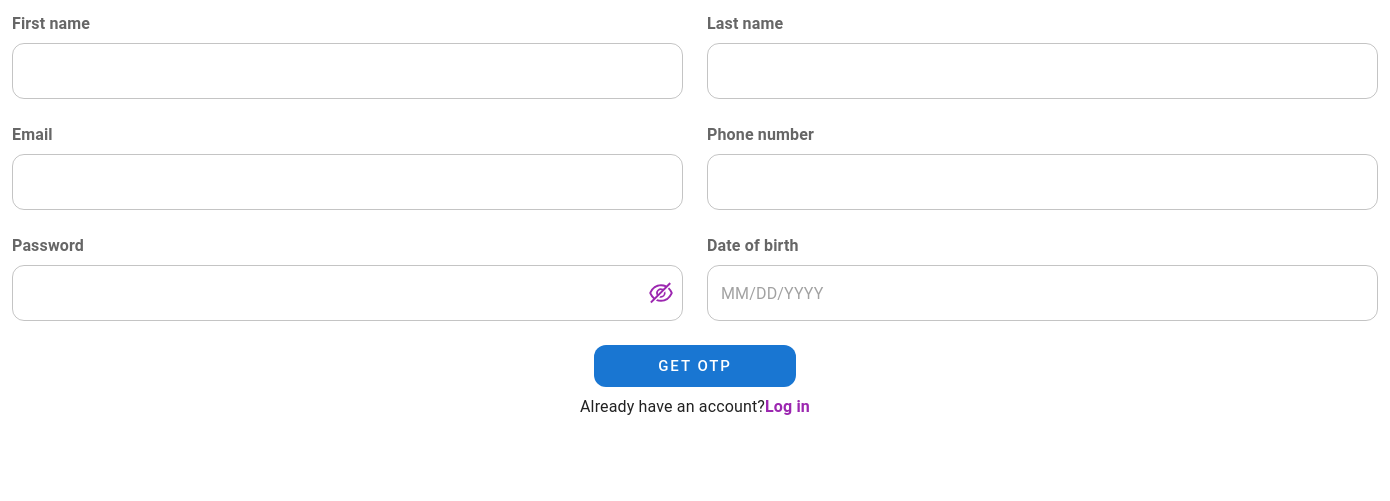
Test case: AuthRegister (Registration) - Unit Tests › Validation › shows required field errors when submitting empty form
Click the button "Get OTP" at (695, 366), box [594,345,796,387]
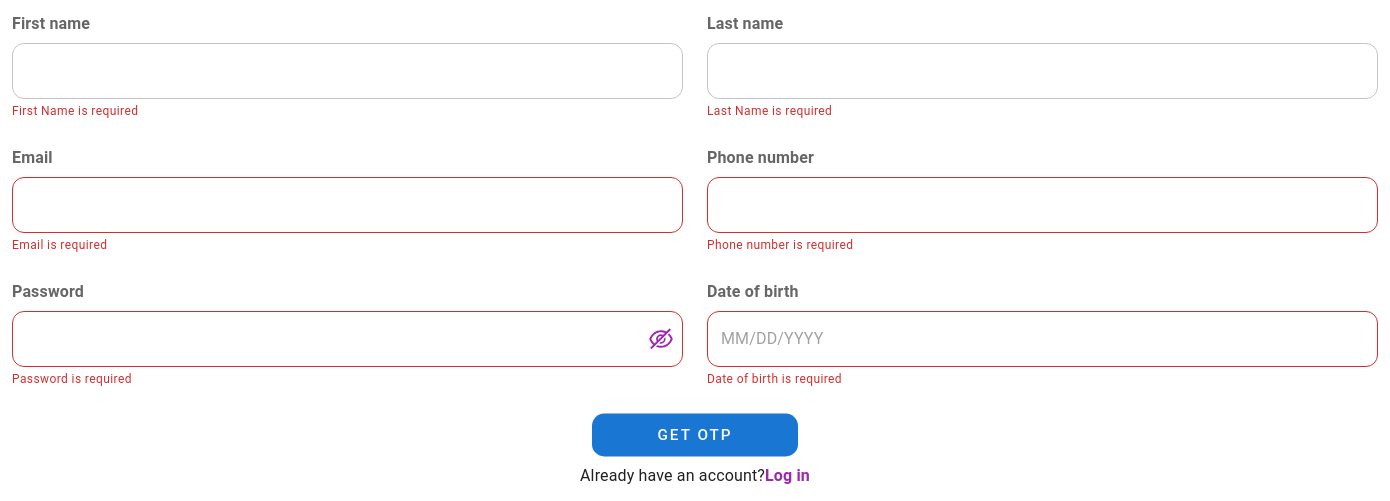
Now the text "First Name is required" is shown, box [12,104,138,118]
Now the text "Last Name is required" is shown, box [707,104,832,118]
Now the text "Email is required" is shown, box [12,238,107,252]
